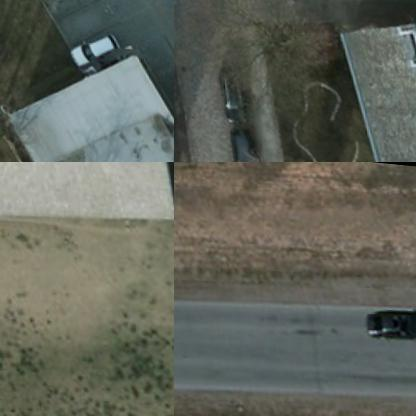car: (63, 24, 125, 66), (363, 297, 415, 339), (214, 63, 249, 124)
